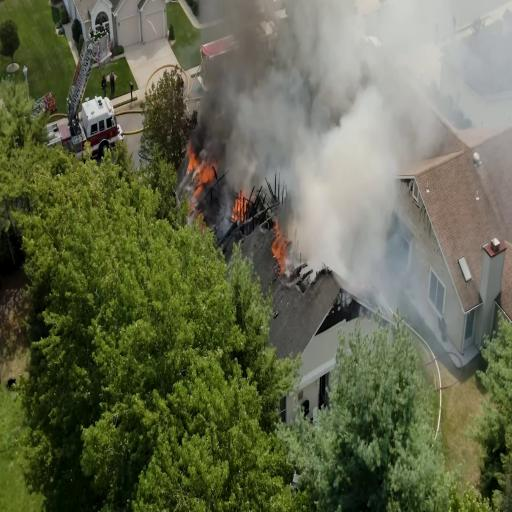fire: (183, 148, 225, 198), (276, 229, 297, 263)
smoke: (242, 5, 397, 162)
